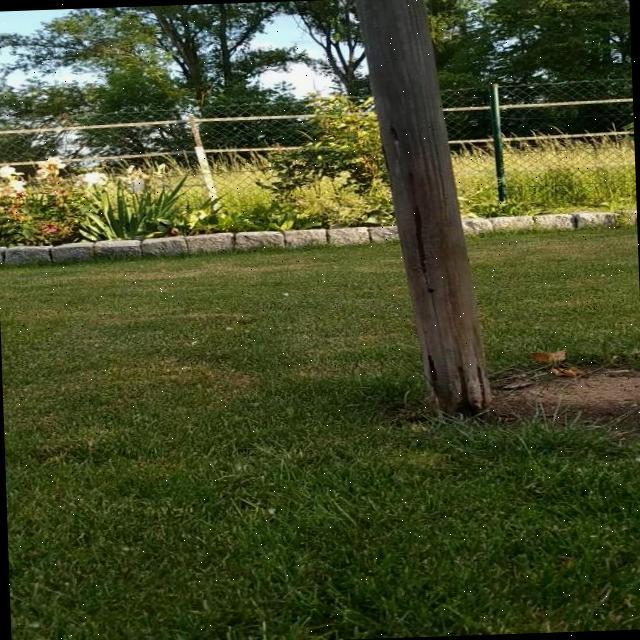lawn: (1, 244, 640, 639), (469, 229, 640, 372)
